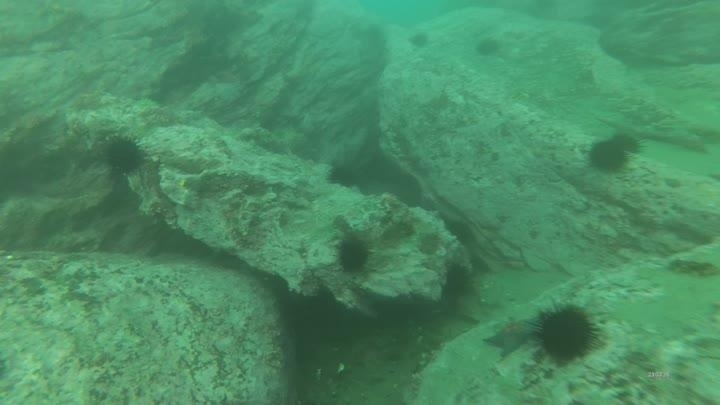echinus: (530, 299, 603, 366), (101, 133, 148, 177), (586, 136, 631, 175), (334, 234, 373, 276), (441, 260, 474, 301), (325, 161, 361, 192), (609, 130, 643, 157), (473, 35, 503, 59), (407, 29, 432, 51)
holothurian: (41, 227, 105, 256)
starfish: (482, 315, 541, 358)
